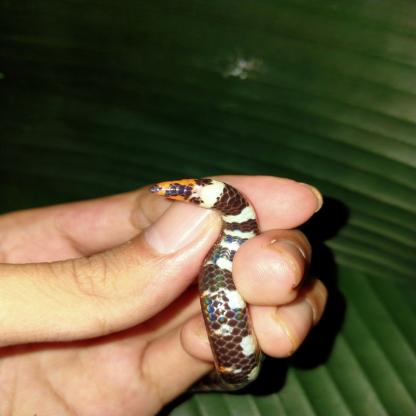Snake: (147, 173, 269, 389)
